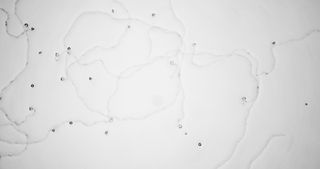germinated: (59, 74, 68, 83), (53, 51, 60, 62), (27, 105, 36, 113), (190, 42, 198, 51), (103, 117, 113, 124), (176, 120, 184, 128), (169, 59, 177, 66), (241, 96, 249, 103)
nongerminated: (28, 25, 36, 32), (150, 11, 157, 18), (196, 140, 203, 147), (65, 45, 72, 52), (50, 127, 57, 134), (102, 129, 109, 135), (126, 23, 132, 30), (302, 101, 309, 107), (30, 81, 35, 89), (23, 22, 29, 28), (88, 75, 94, 81), (109, 8, 115, 14), (37, 49, 43, 55), (270, 40, 276, 46), (183, 130, 188, 137), (68, 120, 73, 126)
